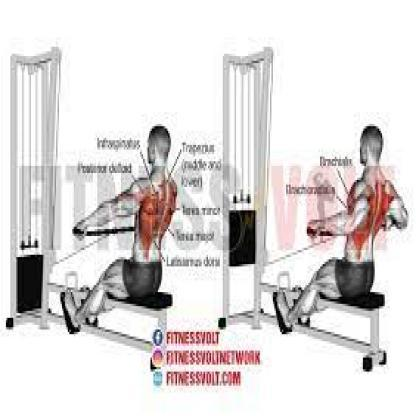Seated Cable Rows: (209, 37, 411, 382), (2, 35, 195, 346)
